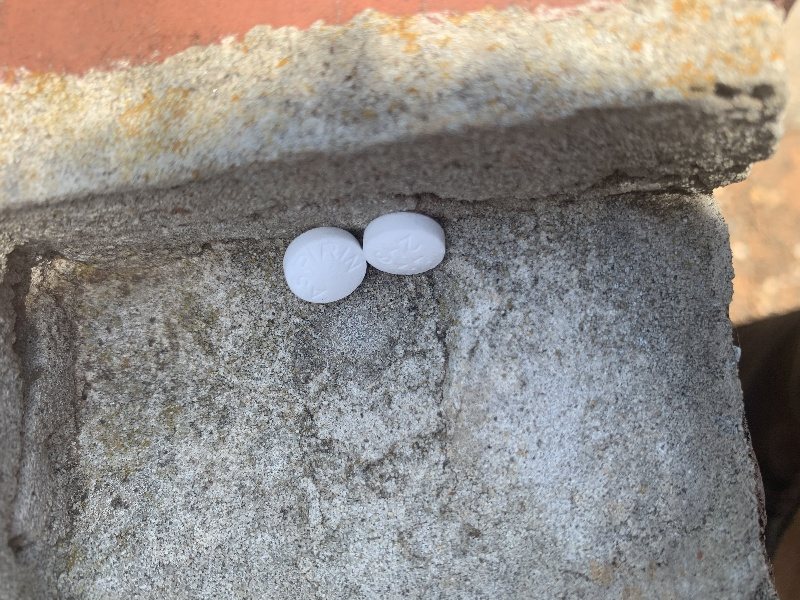Aspirin: (278, 215, 367, 312), (363, 211, 448, 277)
